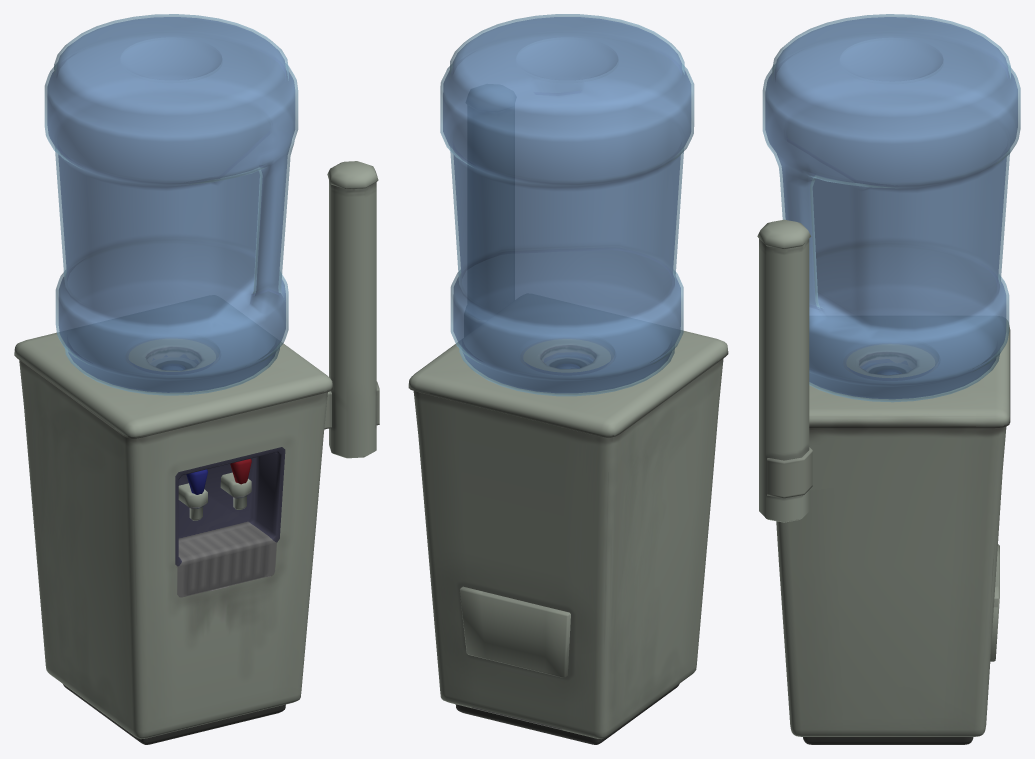
Rendered from PRP_WaterCooler.fbx.
The picture shows the model from 3 angles, left to right: view 1: azimuth 30°, elevation 25°; view 2: azimuth 150°, elevation 25°; view 3: azimuth 270°, elevation 25°; orthographic projection.
Parts seen in each view (by area): view 1: Cube.006, Cube.007; view 2: Cube.006, Cube.007; view 3: Cube.006, Cube.007.
Part boxes in pixels (x1,y1,x2,y2): Cube.006: [14, 161, 379, 744]; Cube.007: [44, 14, 298, 395]; Cube.006: [408, 330, 728, 744]; Cube.007: [440, 14, 694, 396]; Cube.006: [757, 219, 1010, 744]; Cube.007: [762, 14, 1020, 402].
Bounding box in the file's own units: 492 × 1147 × 420.
Materials: 3 (1 with a texture image).
